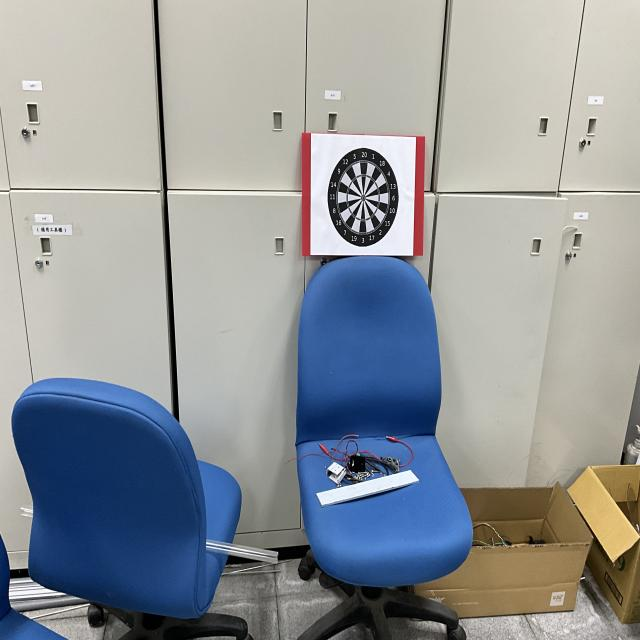archery-targets: (326, 145, 400, 248)
